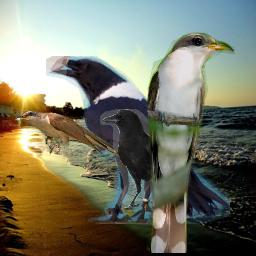Crow: (46, 56, 230, 224), (100, 109, 186, 211)
Cuckoo: (145, 31, 235, 253), (13, 110, 142, 167)
